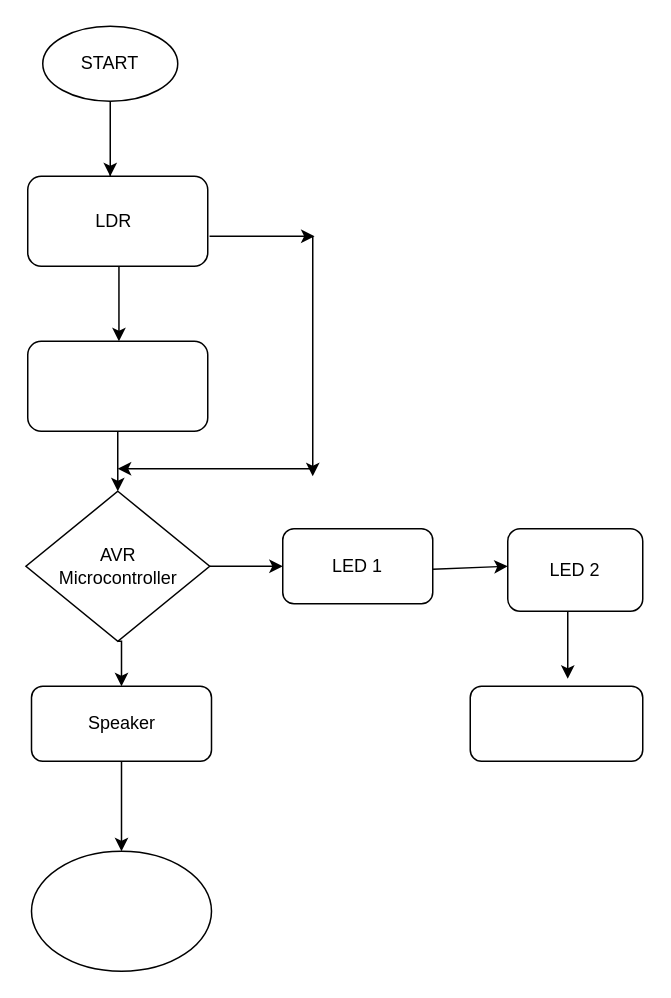
This 671x998 diagram has some shape labels left out. Here are the shapes that lost their labels. From the top down, the box of each, then its label:
(26, 340, 208, 431): LEDS
(469, 685, 643, 761): LED 3
(30, 850, 212, 971): STOP
